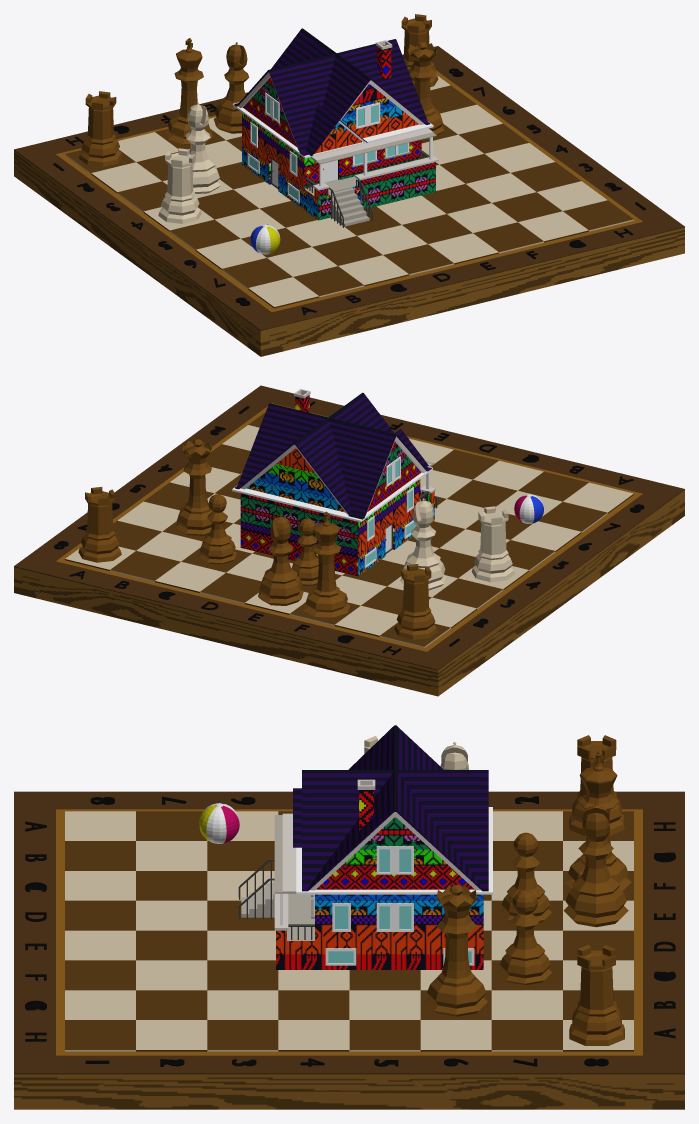
The picture shows the model from 3 angles, top to bottom: view 1: azimuth 30°, elevation 25°; view 2: azimuth 150°, elevation 25°; view 3: azimuth 270°, elevation 25°; orthographic projection. The views are drawn at different scales.
Visible parts, largest first — view 1: Cube.002, Cube.966, OBJRANDOM_BEACHBALL; view 2: Cube.002, Cube.966, OBJRANDOM_BEACHBALL; view 3: Cube.002, Cube.966, OBJRANDOM_BEACHBALL.
Part boxes in pixels (x1,y1,x2,y2): Cube.002: (14, 14, 684, 356); Cube.966: (232, 28, 438, 227); OBJRANDOM_BEACHBALL: (250, 224, 280, 254); Cube.002: (14, 385, 684, 696); Cube.966: (232, 389, 437, 576); OBJRANDOM_BEACHBALL: (514, 494, 543, 523); Cube.002: (14, 735, 684, 1109); Cube.966: (238, 725, 492, 969); OBJRANDOM_BEACHBALL: (199, 803, 239, 843).
Size of the model in its own units: 3981 by 1484 by 4012.
Materials: 31 (6 with a texture image).
